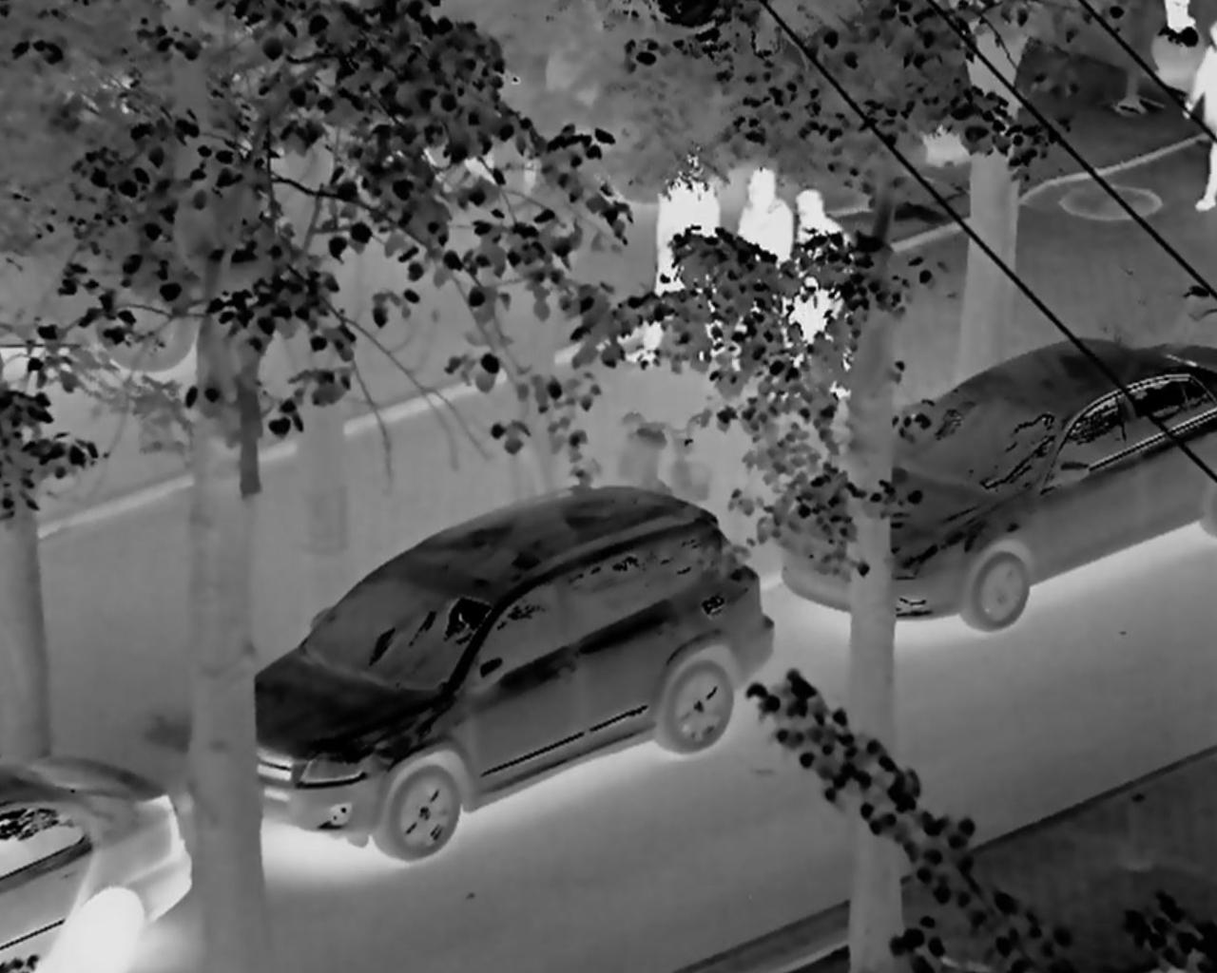person: (638, 121, 729, 374), (724, 162, 793, 378), (790, 187, 848, 392)
